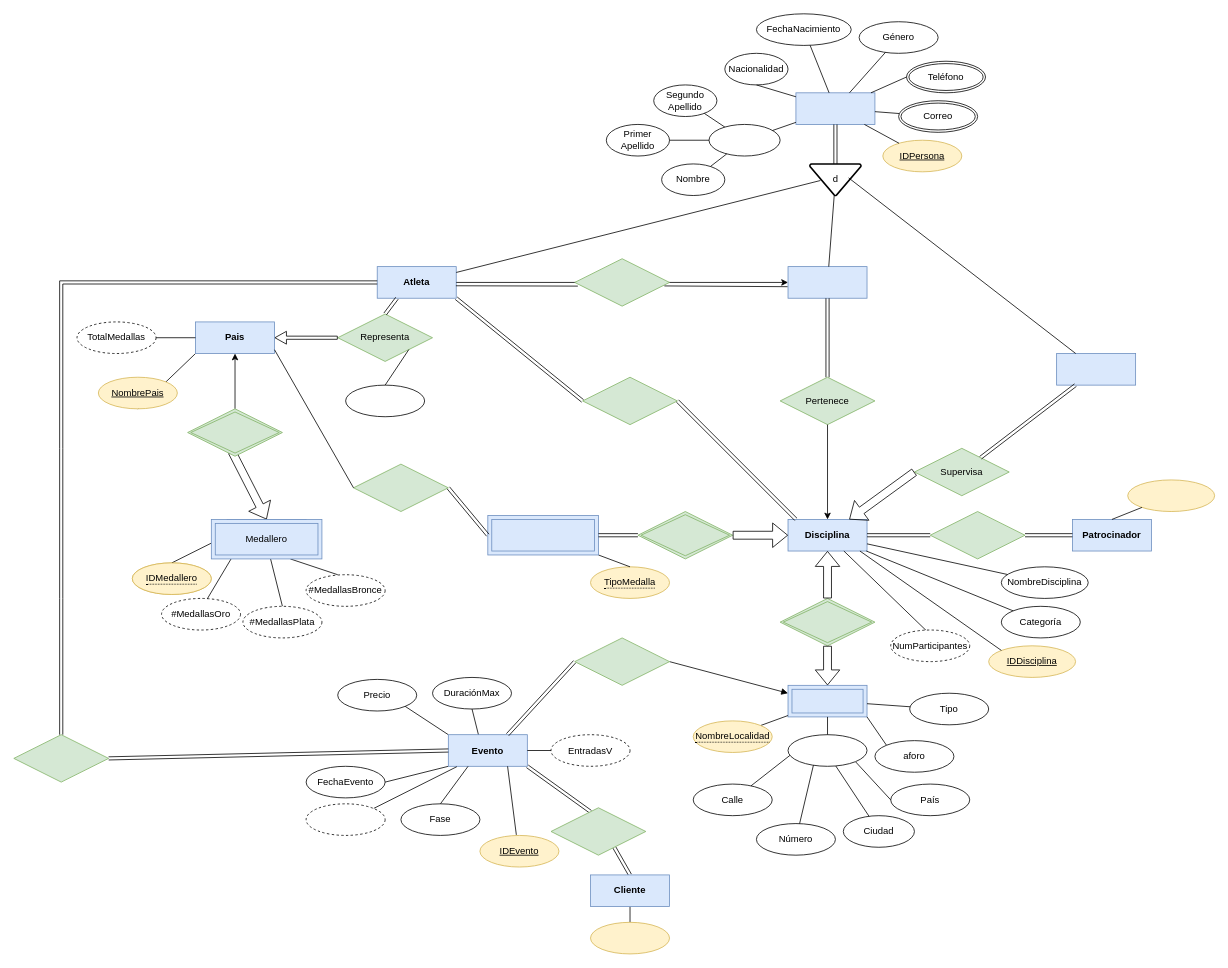
Some shapes in this 1228 by 968 pixel diagram are drawn without their labels. The shapes that lost their labels are listed below. From the top down, each one's centre as x and y in pixels, then its label:
the point at 835,108: Persona
the point at 744,140: NombreComp
the point at 622,282: Entrenar
the point at 827,282: Entrenador
the point at 1096,369: Árbitro
the point at 385,400: Año
the point at 629,400: Participa
the point at 234,432: Ser
the point at 400,487: Gana
the point at 1171,495: NombrePatrocinador
the point at 542,535: Medalla
the point at 685,535: Tiene
the point at 977,535: Patrocina
the point at 827,622: Ubicar
the point at 622,661: Esta
the point at 827,701: Localidad
the point at 61,758: Concursa
the point at 827,750: Dirección
the point at 345,819: PrecioTotal
the point at 598,831: CompraEntrada
the point at 630,938: IdCliente
